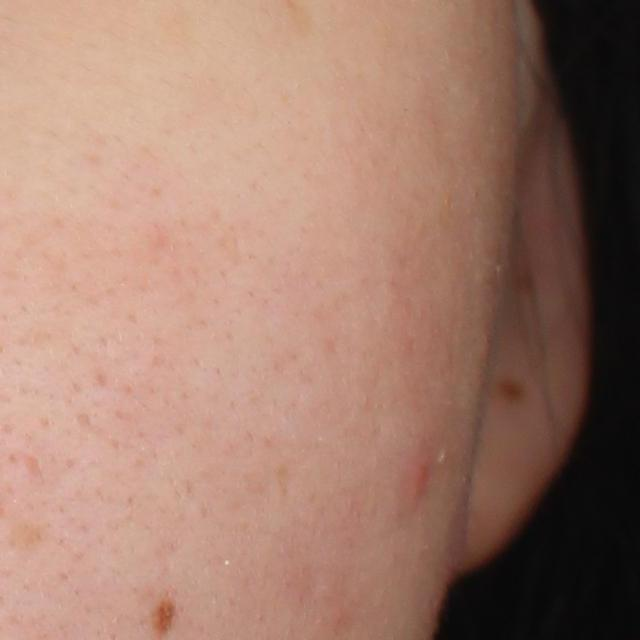atrophic_scar: (24, 449, 47, 483)
nevus: (152, 590, 182, 639)
papule: (398, 450, 433, 516)
